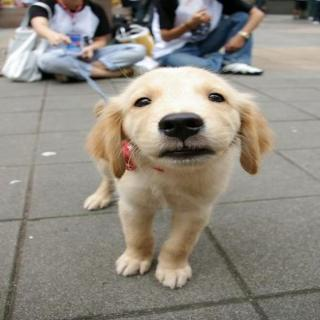dog: (80, 66, 278, 194)
nose: (156, 109, 202, 144)
